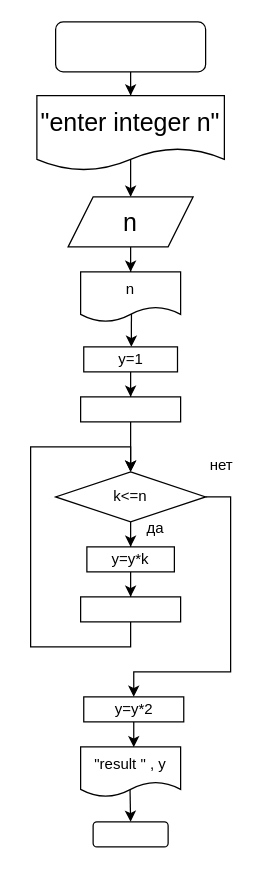
The diagram is 280 pixels wide and 869 high, and some of its shapes have lost their labels. The shapes that lost their labels are listed below. From the top down, each one's centre as x and y in pixels, then its label:
point 130,46: Начало
point 130,409: k=1
point 130,609: k=k+1
point 130,834: конец
